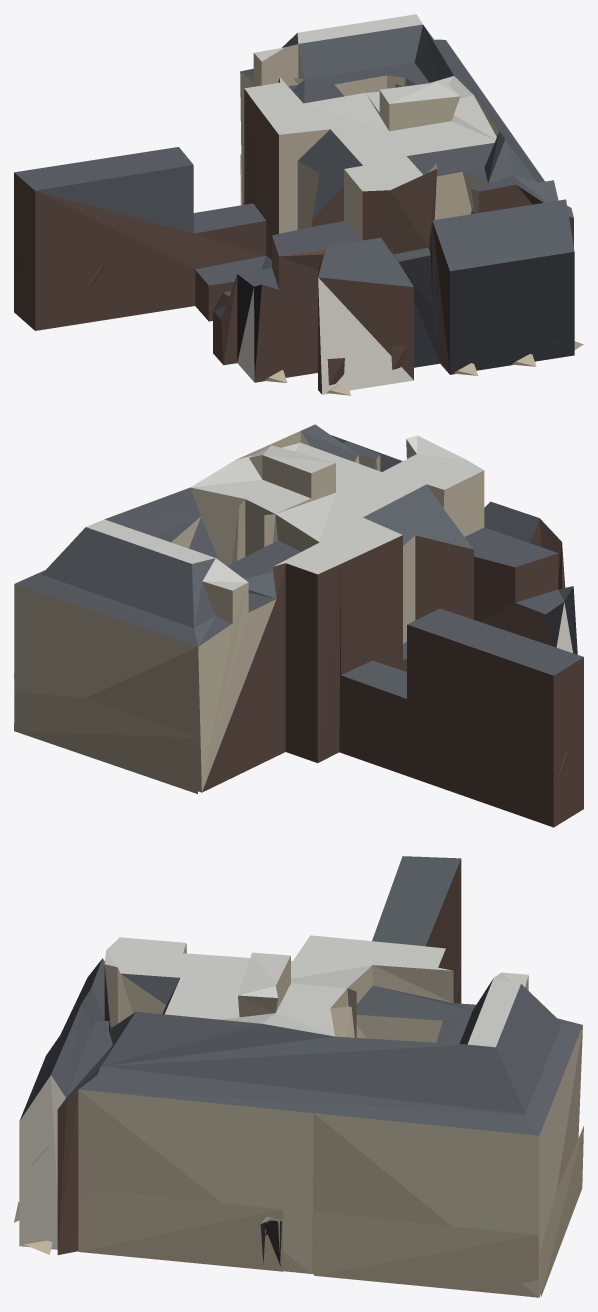
File: handelsbank-singel-250.lod2.glb
The picture shows the model from 3 angles, top to bottom: view 1: azimuth 30°, elevation 25°; view 2: azimuth 150°, elevation 25°; view 3: azimuth 270°, elevation 25°; orthographic projection. The views are drawn at different scales.
Parts seen in each view (by area): view 1: lod2; view 2: lod2; view 3: lod2.
Boxes of the visible parts, x1=… form: lod2: x1=14, y1=14, x2=583, y2=395; lod2: x1=14, y1=424, x2=583, y2=827; lod2: x1=14, y1=856, x2=583, y2=1297.
Bounding box in the file's own units: 63.39 × 26.19 × 55.7.
